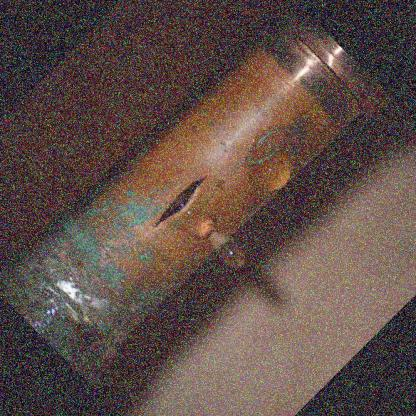burst: (134, 165, 227, 245)
